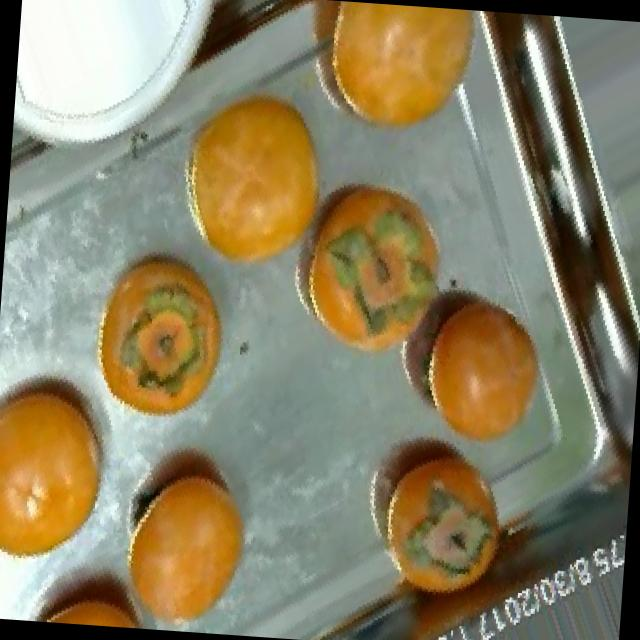Fruit: (150, 53, 356, 280), (392, 259, 582, 482), (72, 214, 250, 446), (337, 402, 526, 612), (92, 424, 272, 636), (0, 369, 127, 589), (12, 536, 166, 630)
